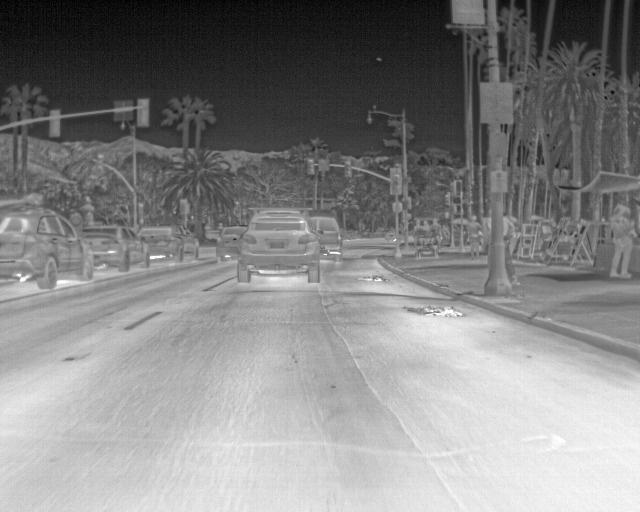bicycle: (0, 198, 92, 290), (235, 204, 323, 282), (81, 224, 152, 273), (141, 224, 201, 258), (306, 213, 344, 262), (217, 222, 248, 266)
empty: (606, 203, 637, 281), (465, 212, 485, 260), (430, 216, 442, 239), (411, 218, 423, 235), (419, 218, 431, 232)
